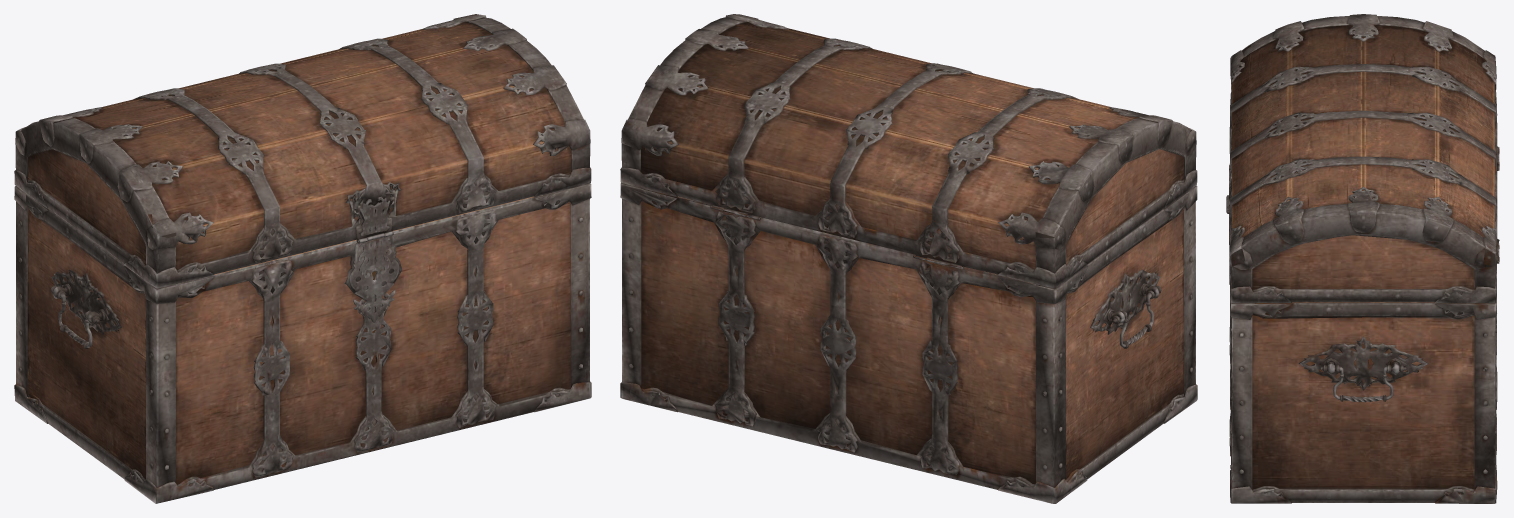
File: chest.jpg-CPrQYUzl.glb
The picture shows the model from 3 angles, left to right: view 1: azimuth 30°, elevation 25°; view 2: azimuth 150°, elevation 25°; view 3: azimuth 270°, elevation 25°; orthographic projection. The views are drawn at different scales.
Parts seen in each view (by area): view 1: treasure_chest_bottom, treasure_chest_lid, treasure_chest_lock, treasure_chest_handle_left; view 2: treasure_chest_bottom, treasure_chest_lid, treasure_chest_handle_left; view 3: treasure_chest_lid, treasure_chest_bottom, treasure_chest_handle_right.
Boxes of the visible parts, box(x1,y1,x2,y2) form: treasure_chest_bottom: box(14, 183, 591, 503); treasure_chest_lid: box(14, 14, 591, 288); treasure_chest_lock: box(349, 233, 399, 322); treasure_chest_handle_left: box(50, 285, 100, 348); treasure_chest_bottom: box(620, 183, 1197, 503); treasure_chest_lid: box(620, 14, 1197, 288); treasure_chest_handle_left: box(1112, 285, 1161, 348); treasure_chest_lid: box(1226, 14, 1499, 302); treasure_chest_bottom: box(1229, 131, 1499, 503); treasure_chest_handle_right: box(1320, 365, 1406, 402).
Bounding box in the file's own units: 0.959 × 0.618 × 0.5224.
Materials: 1 (1 with a texture image).
